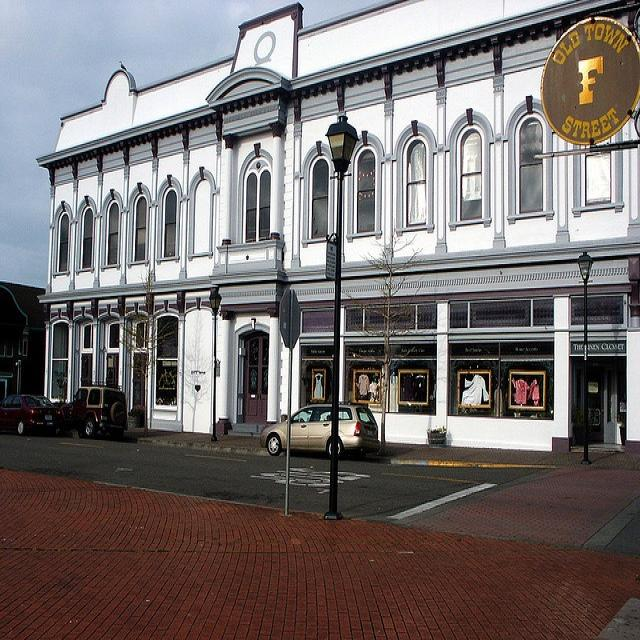car: (259, 399, 380, 457), (54, 380, 127, 437), (0, 392, 61, 436)
pole: (321, 172, 343, 519), (283, 289, 292, 512), (580, 281, 591, 463)
